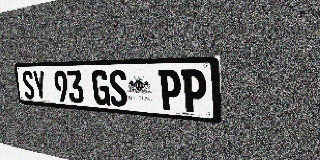3: (67, 70, 84, 103)
9: (53, 71, 70, 102)
G: (91, 70, 110, 106)
P: (181, 69, 207, 113), (158, 70, 182, 111)
S: (108, 70, 128, 107), (21, 71, 36, 100)
Y: (32, 71, 47, 101)
